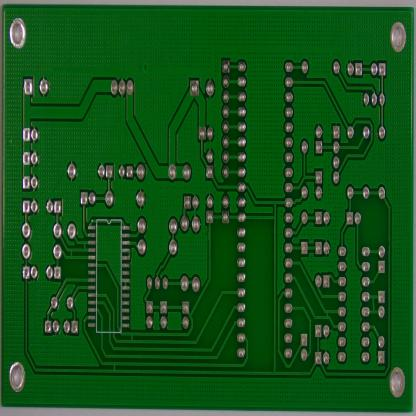short: (367, 290, 379, 316), (126, 328, 137, 346), (322, 304, 331, 322), (66, 247, 76, 263), (110, 360, 118, 375), (81, 239, 88, 253)
